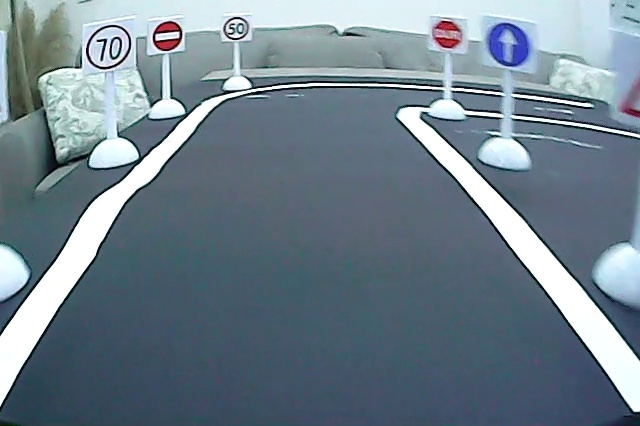do not enter: (150, 18, 185, 54)
speed limit 50: (223, 15, 252, 42)
speed limit 70: (87, 22, 133, 73)
stop sign: (430, 18, 465, 52)
